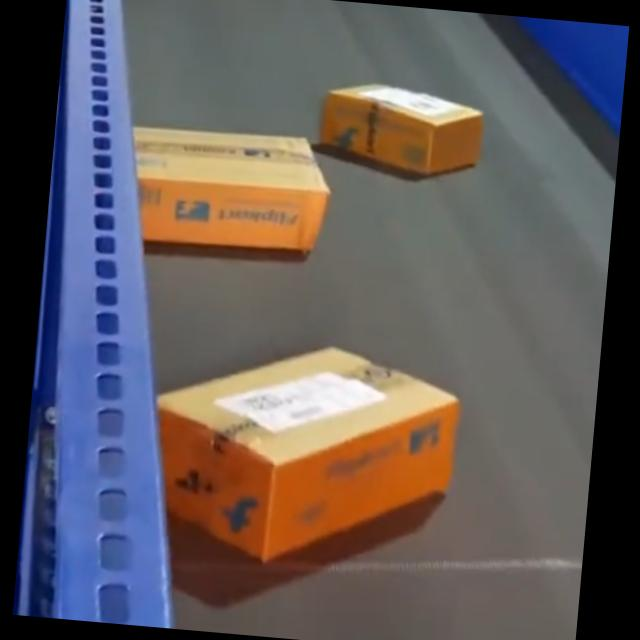box: (140, 328, 461, 570), (106, 120, 330, 262), (316, 76, 489, 179)
